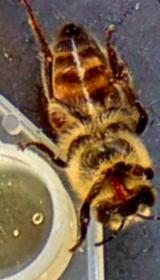varroa_mite: (42, 104, 73, 135)
